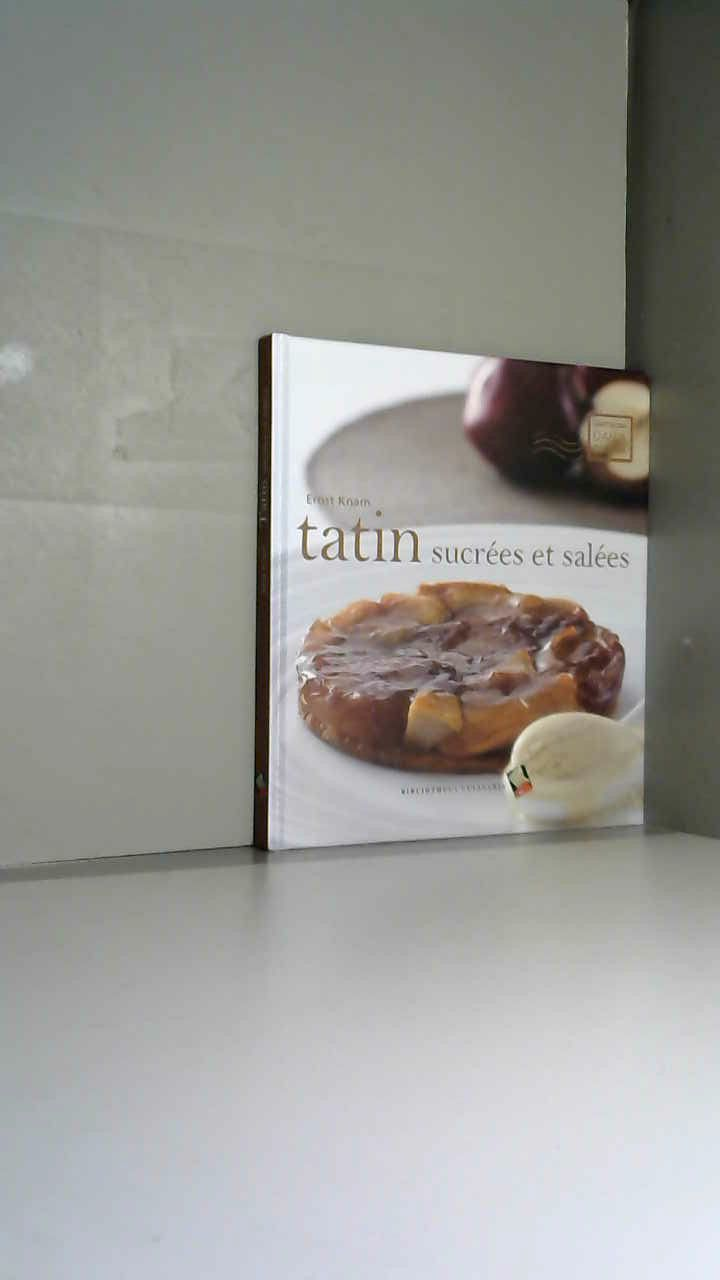book: (230, 300, 720, 895)
